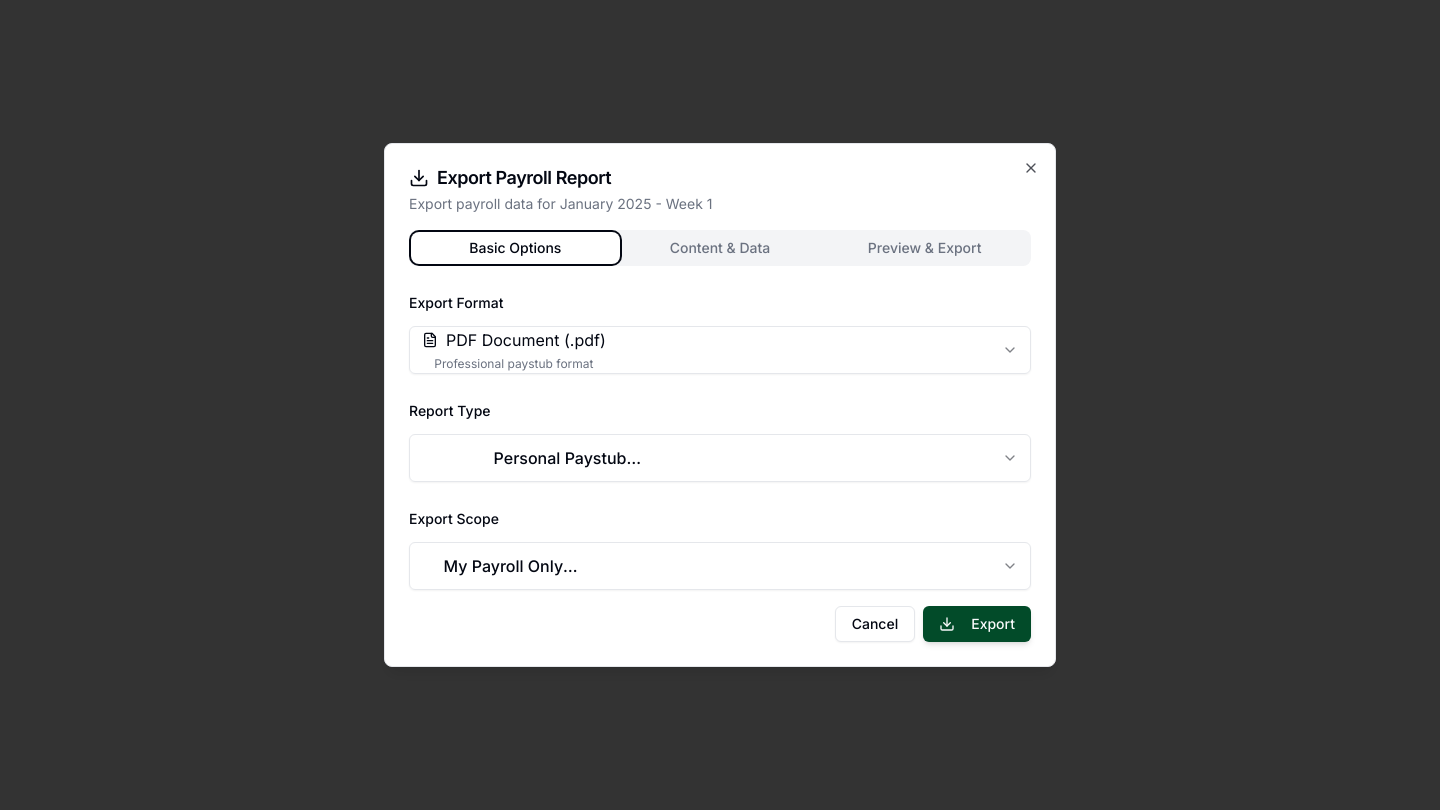
it: PayrollExportDialog › shows export preview in the third tab
Click on Preview & Export tab
Click the tab "Preview & Export" at (925, 248), box [822,234,1027,262]
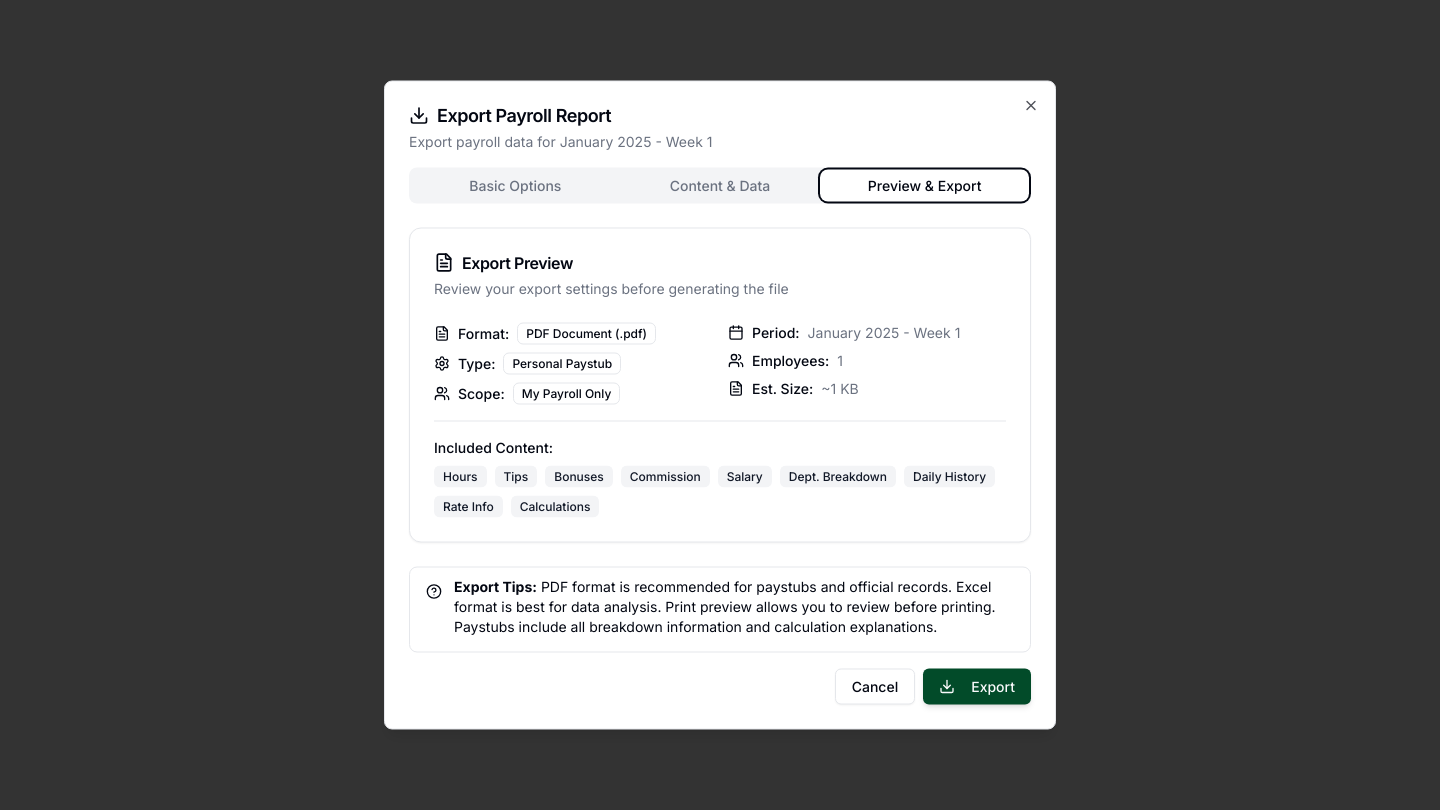
Now the text "Export Preview" is shown, box [434,252,573,272]
Now the text "Format:" is shown, box [458,324,509,344]
Now the text "Type:" is shown, box [458,354,496,374]
